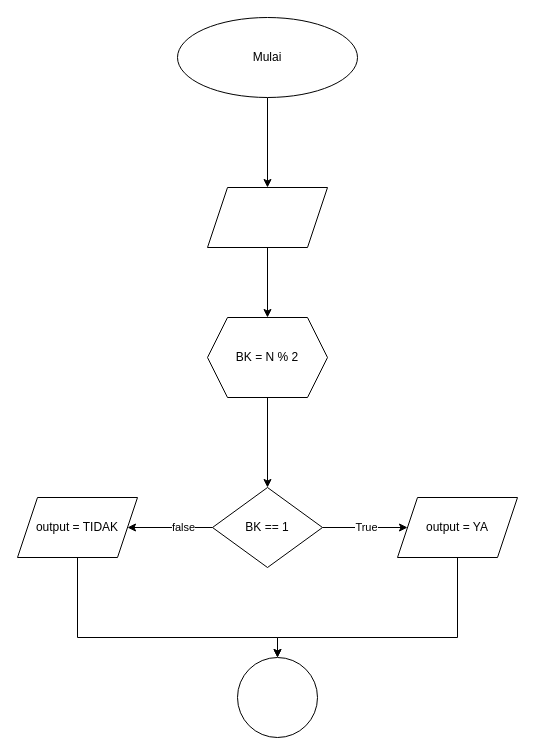
The diagram is 535 pixels wide and 755 high, and some of its shapes have lost their labels. The centre of each missing label's shape, as x and y in pixels:
"input (N)" belongs at (267,217).
"selesai" belongs at (277,697).
